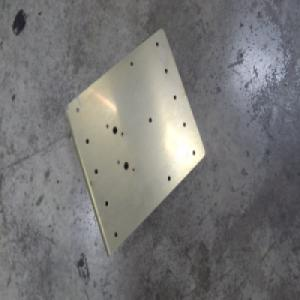MetalSheet: (63, 25, 206, 257)
